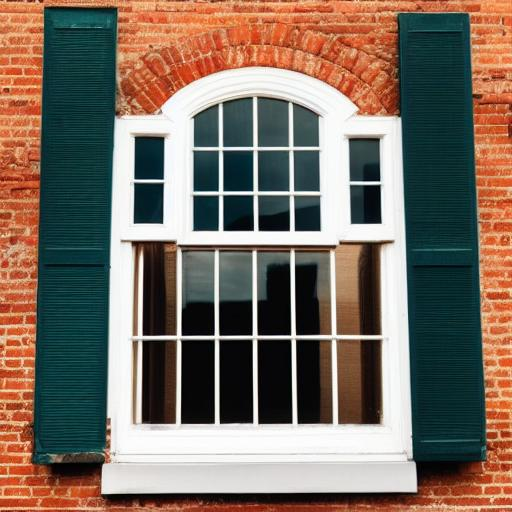Window: (103, 23, 419, 498)
